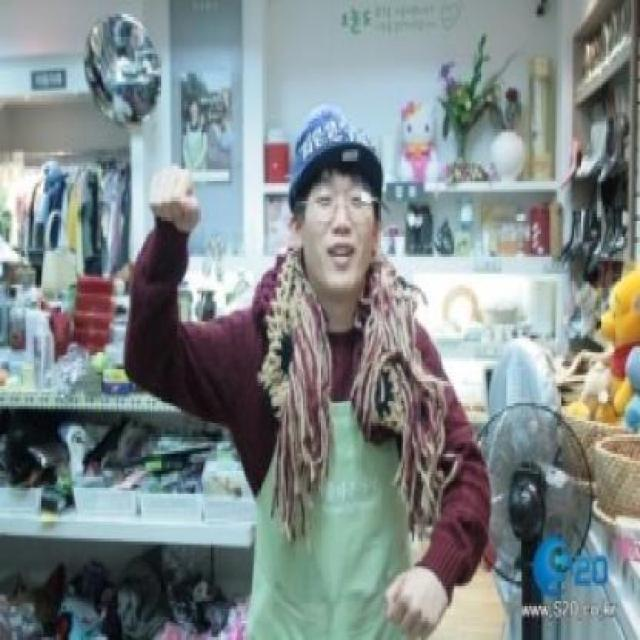hat: (287, 110, 384, 218)
